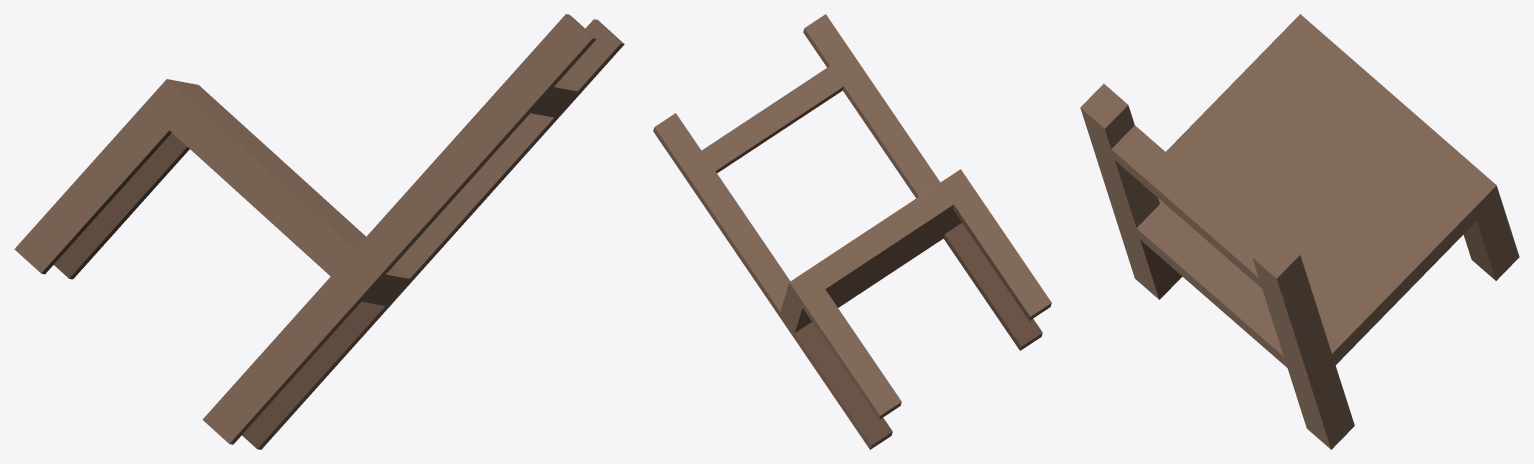
The model's file is chair1.glb.
3 views of the same model, side by side, from view 1: azimuth 30°, elevation 25°; view 2: azimuth 150°, elevation 25°; view 3: azimuth 270°, elevation 25° (orthographic). The views are drawn at different scales.
Parts seen in each view (by area): view 1: chaise 2; view 2: chaise 2; view 3: chaise 2.
Boxes of the visible parts, x1,y1,x2,y2 form: chaise 2: [14, 14, 624, 449]; chaise 2: [653, 14, 1051, 449]; chaise 2: [1080, 14, 1519, 449].
Size of the model in its own units: 1.86 by 1.45 by 1.28.
1 material, 1 textured.
